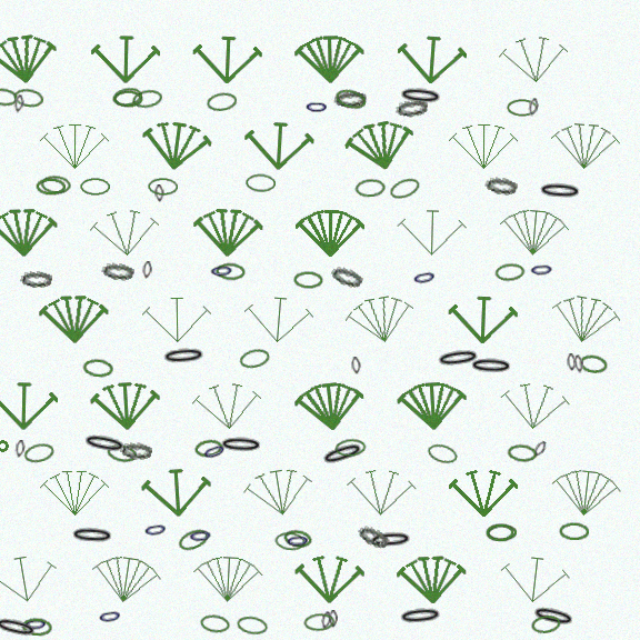chain: (305, 408, 348, 435), (11, 566, 53, 590), (495, 556, 537, 580), (91, 401, 133, 424), (410, 325, 451, 346), (338, 483, 370, 509), (176, 486, 208, 511), (376, 90, 417, 109), (163, 324, 204, 343), (376, 558, 417, 577), (367, 170, 398, 195), (314, 250, 346, 274), (349, 490, 390, 508), (502, 176, 542, 194), (81, 486, 121, 504), (401, 410, 431, 433), (318, 91, 349, 113), (440, 334, 480, 351), (215, 405, 255, 422), (232, 325, 262, 346), (38, 410, 68, 431), (373, 100, 404, 120), (230, 566, 260, 586), (29, 91, 58, 111), (136, 92, 165, 112), (118, 90, 147, 110), (113, 411, 142, 431), (198, 408, 224, 430), (272, 488, 300, 508), (203, 95, 232, 114), (197, 565, 226, 584), (495, 565, 524, 584), (318, 93, 348, 111), (454, 171, 484, 189), (109, 248, 139, 266), (7, 91, 35, 110), (538, 331, 566, 350), (192, 407, 220, 426), (319, 407, 348, 425), (291, 564, 320, 582), (54, 170, 82, 188), (337, 173, 365, 191), (463, 249, 491, 267), (92, 335, 120, 353), (474, 412, 502, 430), (265, 491, 293, 509), (37, 568, 65, 586), (126, 410, 155, 427), (36, 256, 65, 272), (239, 169, 266, 186), (212, 249, 239, 266), (456, 484, 483, 501), (388, 253, 412, 272), (146, 480, 170, 499), (105, 558, 129, 577), (474, 102, 502, 118), (120, 94, 147, 110), (50, 173, 77, 189), (90, 173, 117, 189), (151, 173, 178, 189), (282, 257, 309, 273), (521, 483, 548, 499), (455, 484, 481, 500), (187, 486, 210, 504), (206, 248, 229, 265), (494, 247, 517, 264), (275, 491, 297, 508), (39, 566, 61, 583), (292, 101, 314, 117), (496, 409, 511, 426), (306, 563, 317, 580), (30, 98, 40, 115), (493, 101, 503, 118), (534, 332, 544, 349), (31, 409, 41, 425), (157, 179, 166, 195), (146, 248, 155, 264), (334, 334, 343, 350), (528, 331, 537, 347), (314, 562, 322, 578)
fan: (326, 116, 395, 173), (326, 273, 395, 329), (510, 273, 579, 329), (235, 429, 303, 484), (5, 507, 73, 562), (97, 508, 165, 562), (5, 40, 72, 93), (143, 118, 210, 171), (282, 353, 348, 405), (466, 353, 532, 405), (512, 431, 578, 483), (466, 509, 532, 561), (466, 197, 531, 248), (374, 42, 439, 92), (466, 42, 531, 92), (512, 120, 577, 170), (98, 198, 163, 248), (236, 276, 301, 326), (190, 354, 255, 404), (237, 120, 301, 169), (191, 198, 255, 247), (99, 354, 163, 403), (375, 354, 439, 403), (145, 432, 209, 481), (329, 432, 393, 481), (191, 510, 255, 559), (191, 43, 254, 91), (421, 277, 484, 325), (375, 511, 438, 559), (283, 43, 346, 90), (7, 199, 70, 246), (375, 199, 438, 246), (53, 277, 116, 324), (283, 511, 346, 558), (100, 43, 162, 90), (8, 355, 70, 402), (54, 122, 116, 168), (422, 122, 484, 168), (284, 200, 346, 246), (146, 278, 208, 324), (54, 434, 116, 480), (422, 434, 484, 480)
noise: (598, 30, 617, 49), (14, 408, 27, 421)
